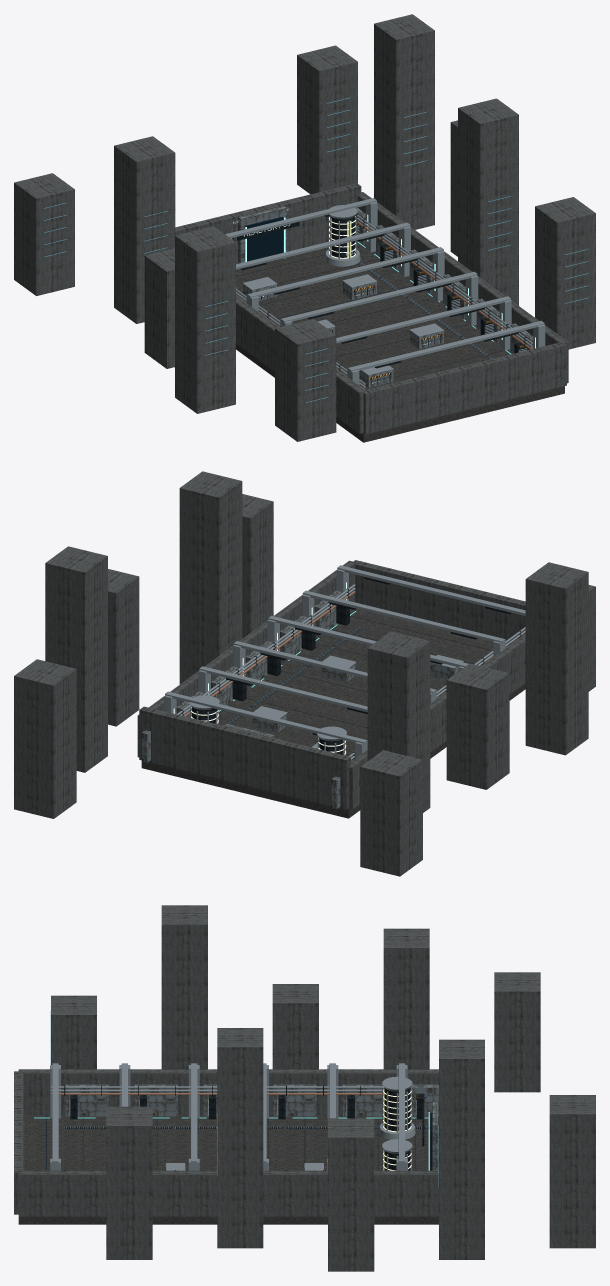
The model's file is facility.glb.
3 views of the same model, one above another, from view 1: azimuth 30°, elevation 25°; view 2: azimuth 150°, elevation 25°; view 3: azimuth 270°, elevation 25° (orthographic). The views are drawn at different scales.
Parts seen in each view (by area): view 1: left-wall, foundation, buttress--12-0, wall-panel--12-0, reactor--8, tower-light-0-0, exit-dark, floor-seam-9; view 2: left-wall, foundation, buttress--12-0, wall-panel--12-0, reactor--8; view 3: left-wall, foundation, buttress--12-0, wall-panel--12-0, reactor--8, Service pipe.
Part boxes in pixels (bbox=[...]): left-wall: bbox=[14, 14, 595, 441]; foundation: bbox=[236, 241, 564, 442]; buttress--12-0: bbox=[225, 198, 545, 388]; wall-panel--12-0: bbox=[238, 206, 533, 387]; reactor--8: bbox=[232, 214, 527, 385]; tower-light-0-0: bbox=[44, 97, 588, 402]; exit-dark: bbox=[245, 217, 283, 261]; floor-seam-9: bbox=[236, 244, 503, 377]; left-wall: bbox=[14, 471, 595, 876]; foundation: bbox=[141, 608, 525, 818]; buttress--12-0: bbox=[164, 565, 525, 759]; wall-panel--12-0: bbox=[142, 590, 458, 808]; reactor--8: bbox=[180, 577, 521, 759]; left-wall: bbox=[14, 905, 595, 1271]; foundation: bbox=[18, 1115, 438, 1224]; buttress--12-0: bbox=[50, 1063, 438, 1170]; wall-panel--12-0: bbox=[65, 1084, 438, 1170]; reactor--8: bbox=[64, 1085, 424, 1170]; Service pipe: bbox=[51, 1093, 382, 1094].
Size of the model in its own units: 51 by 24.2 by 63.
20 materials, 5 textured.
